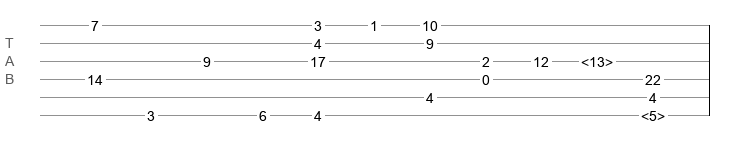0: (482, 72, 490, 82)
1: (370, 18, 378, 28)
10: (422, 18, 438, 28)
12: (533, 54, 549, 64)
14: (87, 72, 103, 82)
17: (310, 54, 326, 64)
2: (482, 54, 490, 64)
22: (645, 72, 661, 82)
3: (147, 108, 155, 118), (314, 18, 322, 28)
4: (314, 108, 322, 118), (314, 36, 322, 46), (426, 90, 434, 100), (649, 90, 657, 100)
6: (259, 108, 267, 118)
7: (91, 18, 99, 28)
9: (203, 54, 211, 64), (426, 36, 434, 46)
harmonic: (581, 54, 613, 64), (641, 108, 665, 118)
